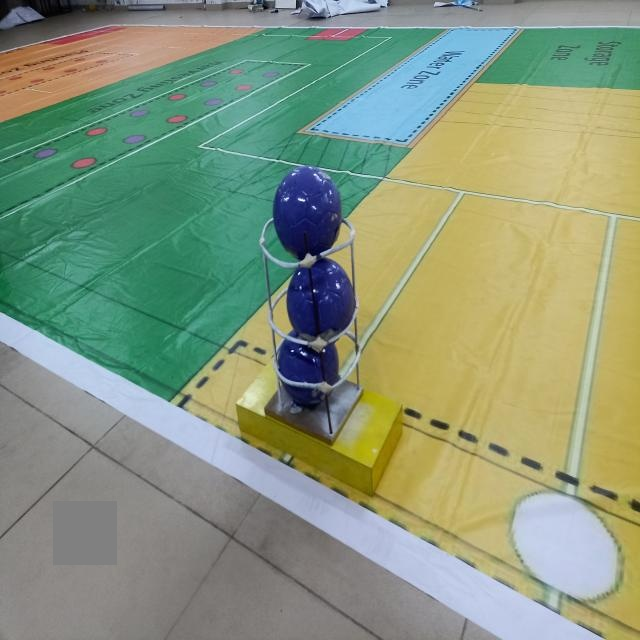purple_ball: (270, 163, 345, 250), (287, 255, 357, 342), (281, 327, 342, 404)
silo: (268, 207, 366, 440)
